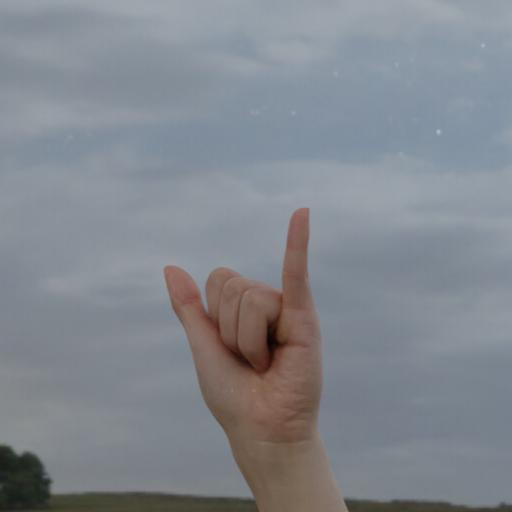Y: (151, 196, 335, 452)
